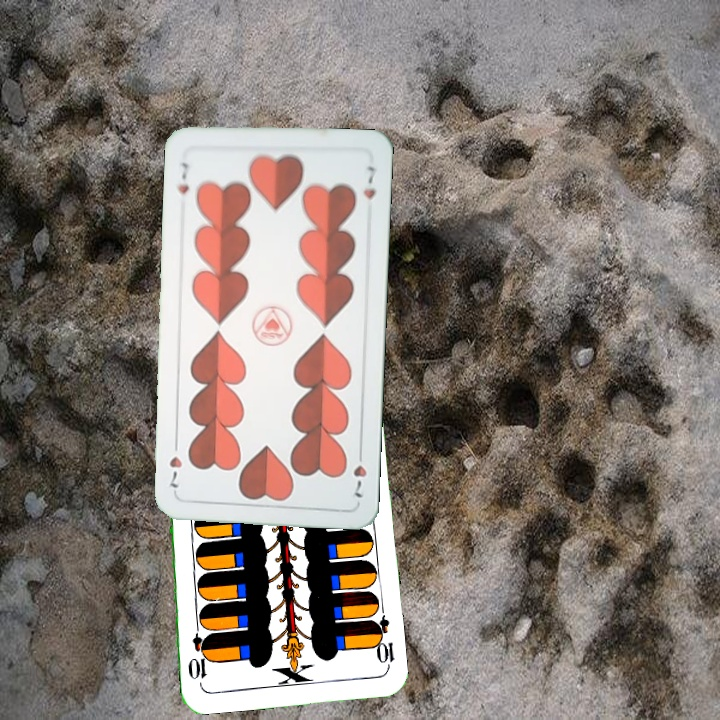E10: (368, 613, 398, 672)
H7: (350, 444, 370, 500), (173, 158, 192, 197)
